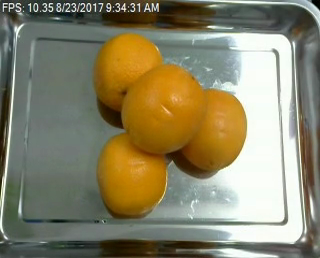Orange: (120, 65, 203, 154), (96, 134, 168, 215), (94, 34, 163, 113), (183, 88, 248, 169)
